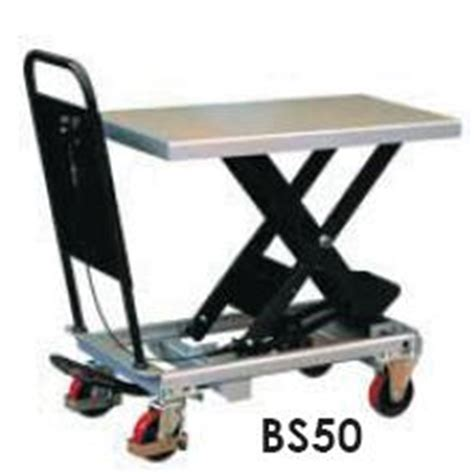Scissor Lift: (22, 47, 466, 463)
